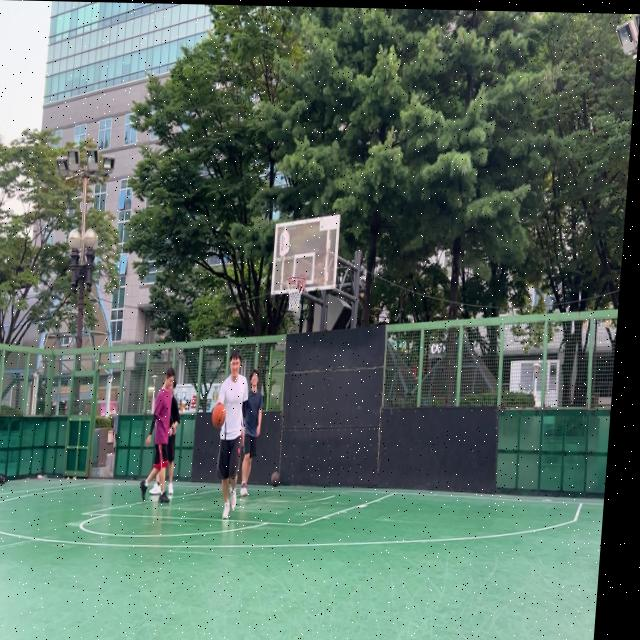basketball: (211, 404, 227, 428), (270, 471, 281, 488)
hoop: (284, 276, 306, 313)
